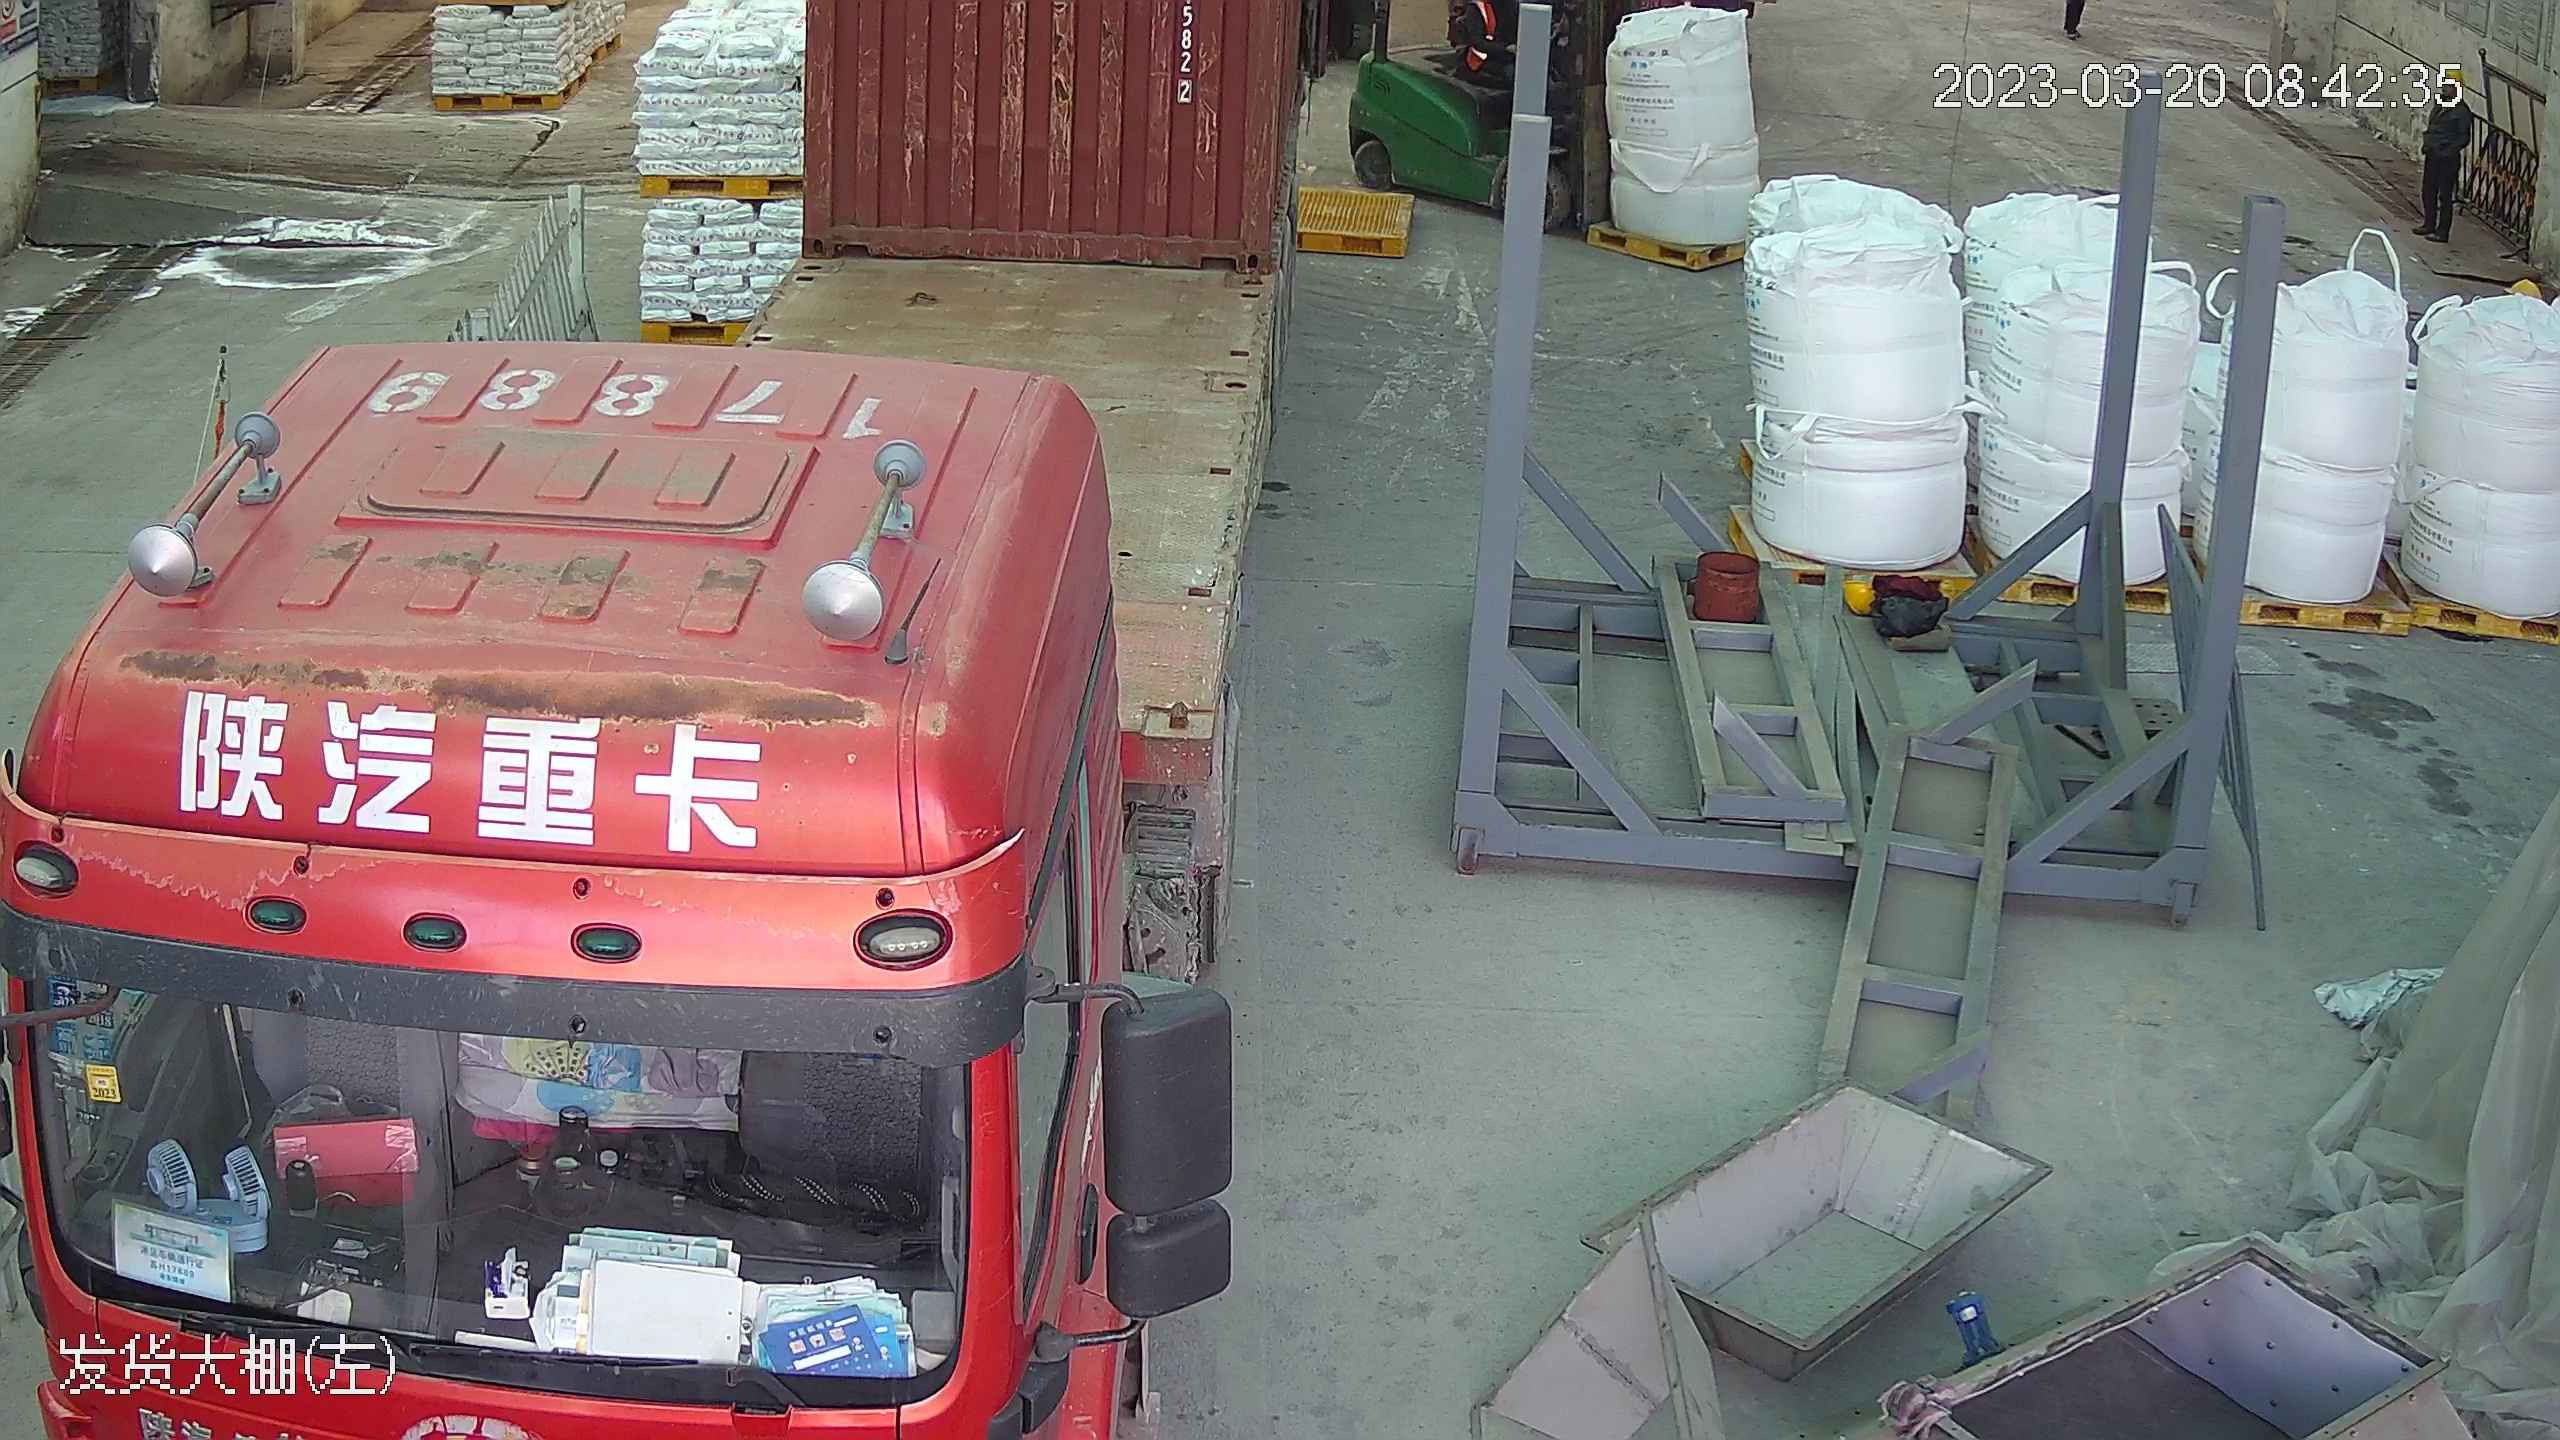head: (2424, 61, 2477, 127)
helmet: (2438, 61, 2468, 86), (2515, 274, 2544, 295)
people: (2412, 63, 2479, 240)
truck: (1, 1, 1282, 1440)
